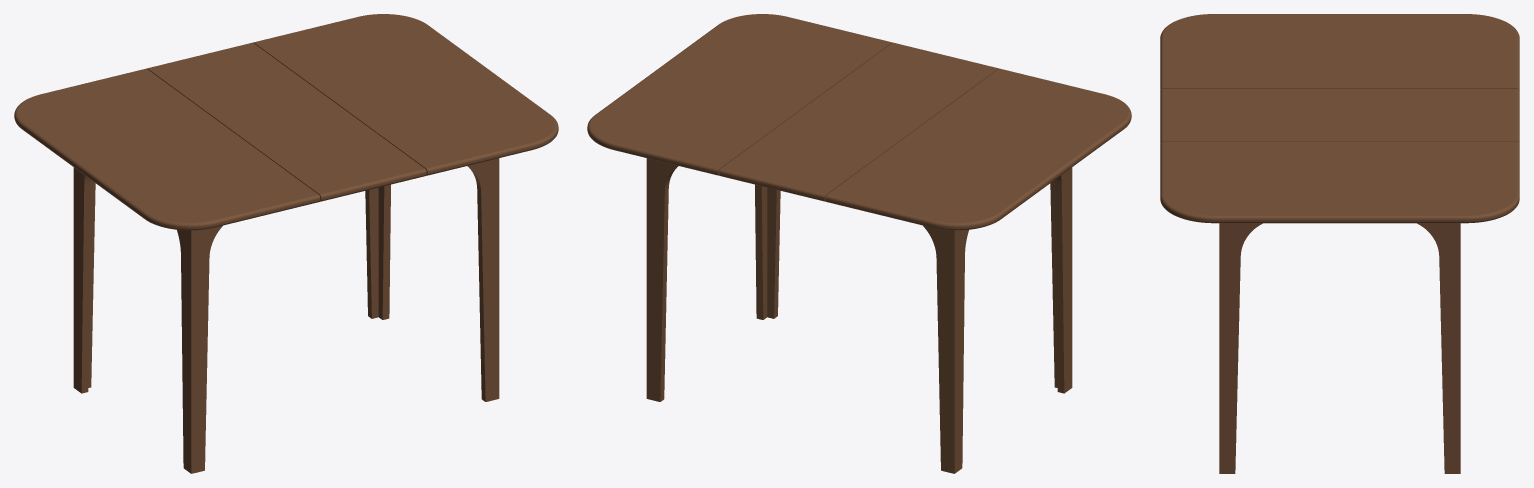
The model's file is family_table.glb.
3 renders of one model, left to right at view 1: azimuth 30°, elevation 25°; view 2: azimuth 150°, elevation 25°; view 3: azimuth 270°, elevation 25°, orthographic. The views are drawn at different scales.
Visible parts, largest first — view 1: family_table; view 2: family_table; view 3: family_table.
Boxes of the visible parts, left/top/right/bottom form: family_table: left=14, top=14, right=558, bottom=473; family_table: left=587, top=14, right=1131, bottom=473; family_table: left=1160, top=14, right=1519, bottom=473.
Bounding box in the file's own units: 45 × 29 × 33.5.
